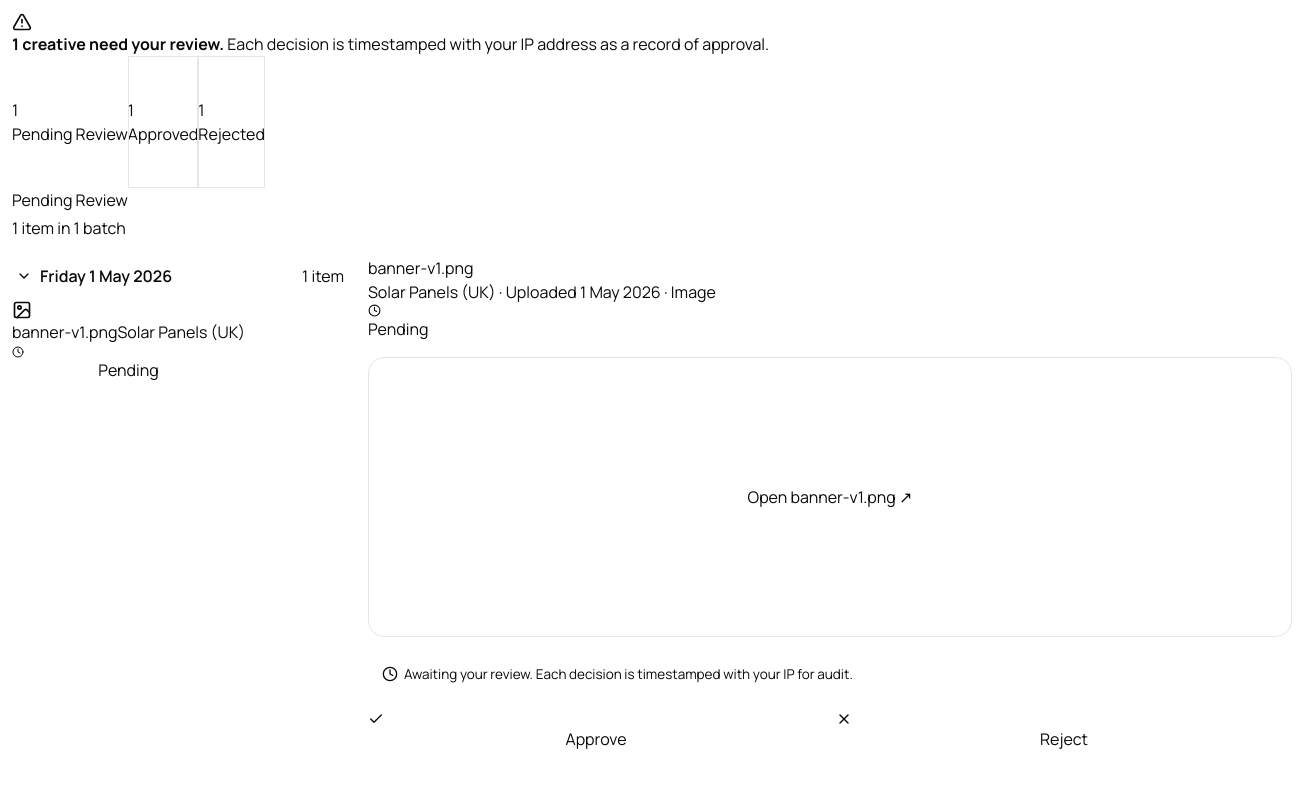
Test: PortalCompliancePage — asset approval › Approved tab shows only approved creatives
The image size is (1304, 812).
Expected: the text "banner-v1.png" is shown, [12,321,117,343]
Click the tab "1 Approved": coordinates (163, 122) [128,56,198,188]
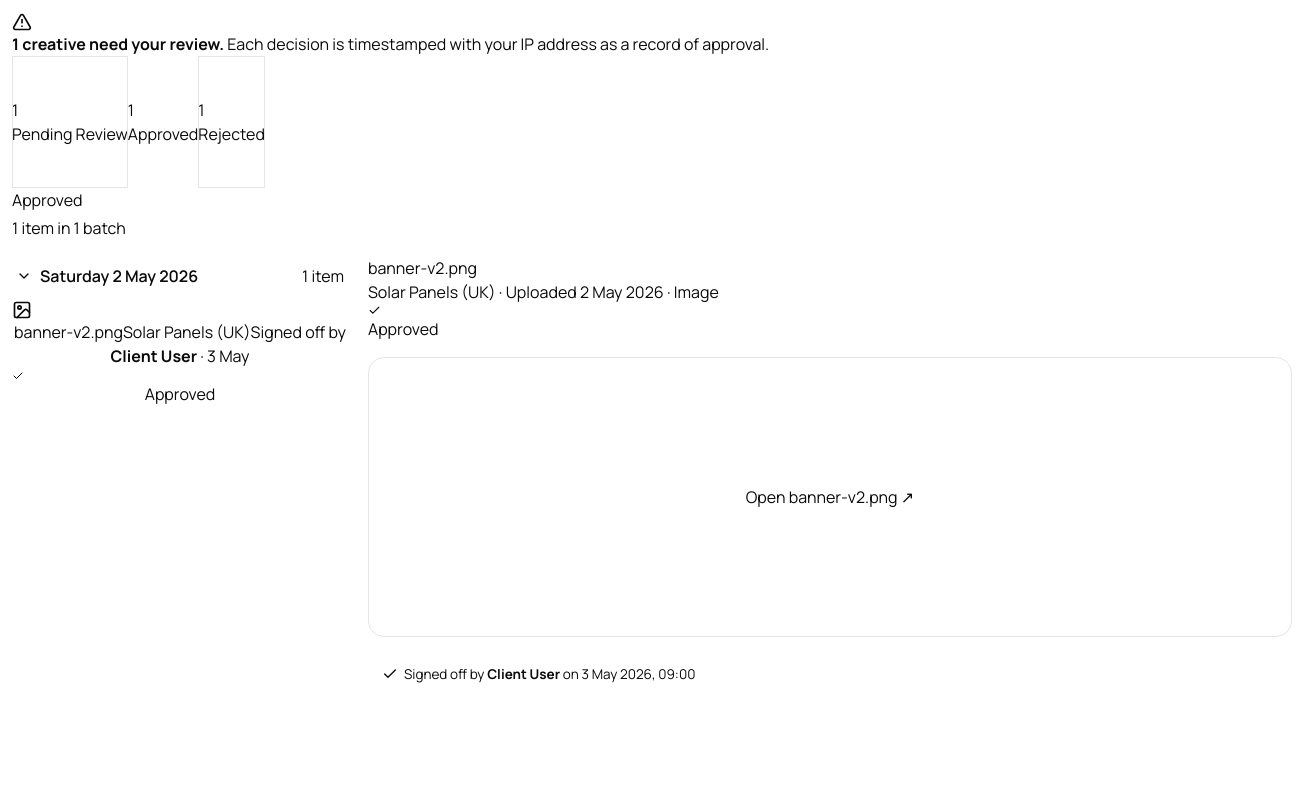
Expected: the button "banner-v1.png" is gone
